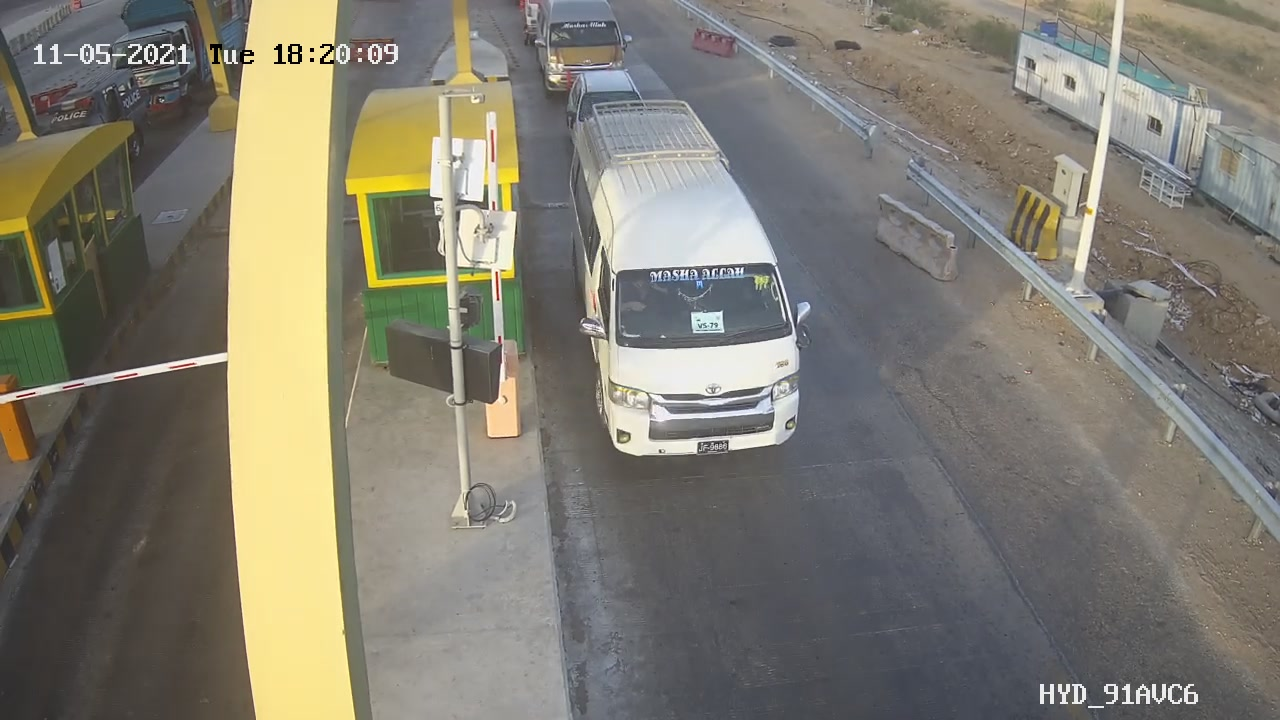F2: (561, 119, 837, 463)
